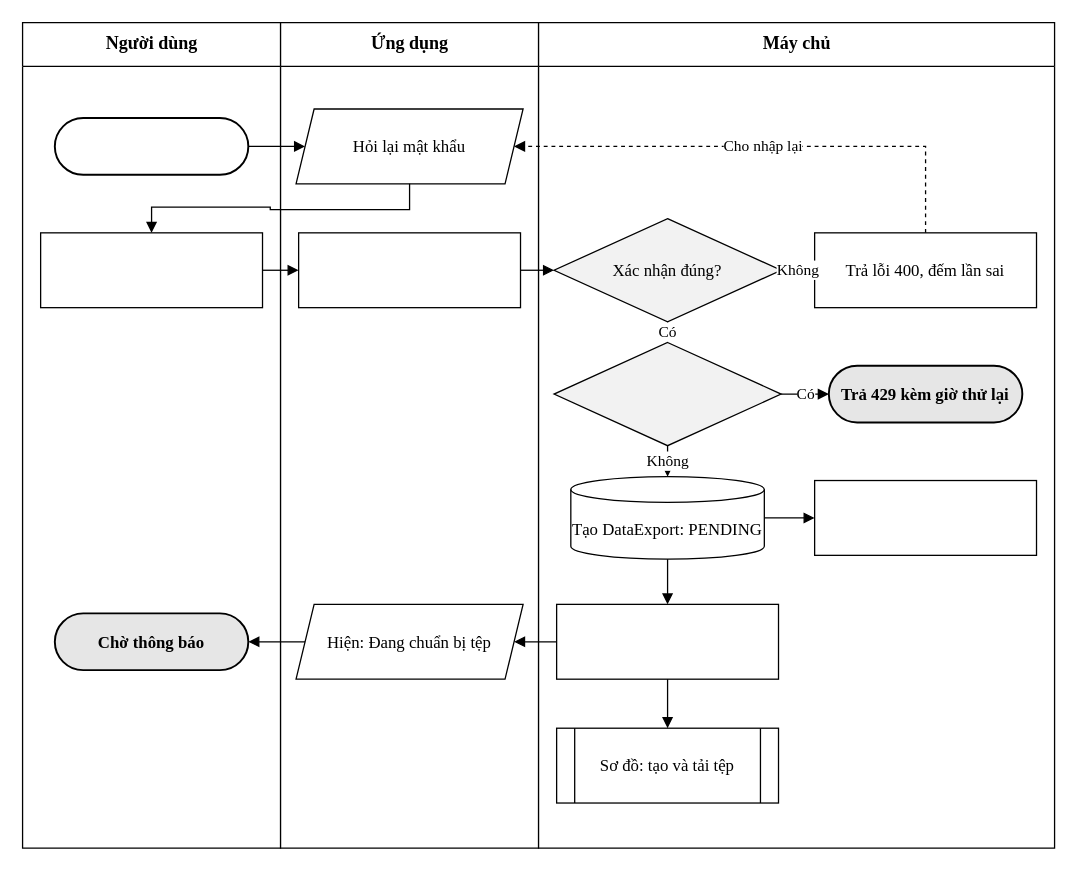
This 1077x871 diagram has some shape labels left out. The centre of each missing label's shape, as x and y in pixels:
"Bấm Yêu cầu tệp dữ liệu" belongs at (151,145).
"Email báo có yêu cầu xuất" belongs at (925,517).
"Gửi yêu cầu xuất dữ liệu" belongs at (409,270).
"Nhập mật khẩu hoặc đăng nhập Google" belongs at (151,270).
"Đã yêu cầu trong 24 giờ?" belongs at (667,393).
"Đưa việc vào hàng đợi" belongs at (667,641).
